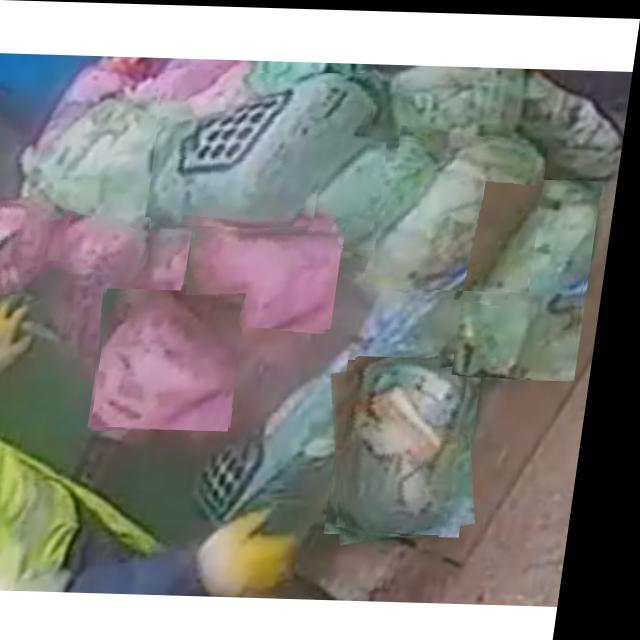general_trashbag: (154, 72, 373, 225), (464, 177, 602, 373), (379, 136, 549, 286), (354, 356, 477, 532), (322, 138, 436, 246)
other_trashbag: (105, 293, 242, 426), (197, 227, 347, 326), (57, 216, 153, 278), (0, 204, 35, 294), (53, 222, 69, 260)
